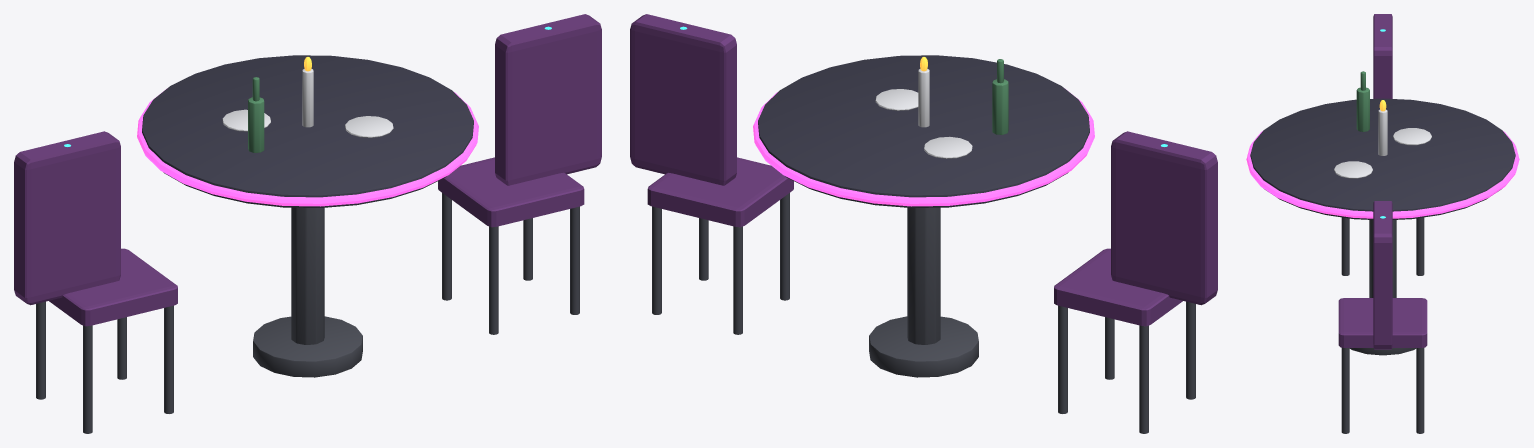
Rendered from table_with_chairs.glb.
The picture shows the model from 3 angles, left to right: view 1: azimuth 30°, elevation 25°; view 2: azimuth 150°, elevation 25°; view 3: azimuth 270°, elevation 25°; orthographic projection. The views are drawn at different scales.
Parts seen in each view (by area): view 1: body; view 2: body; view 3: body.
Part boxes in pixels (x1=…): body: x1=14, y1=14, x2=601, y2=433; body: x1=630, y1=14, x2=1217, y2=433; body: x1=1246, y1=14, x2=1519, y2=433.
Size of the model in its own units: 5.4 by 2.7 by 2.78.
